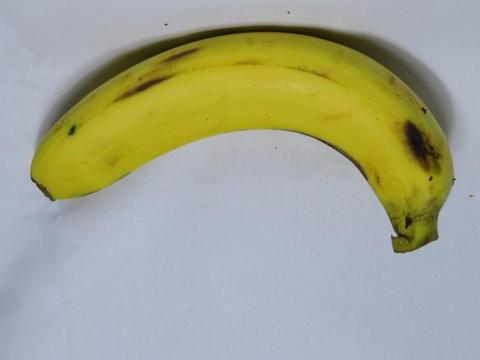freshripe: (17, 12, 464, 259)
